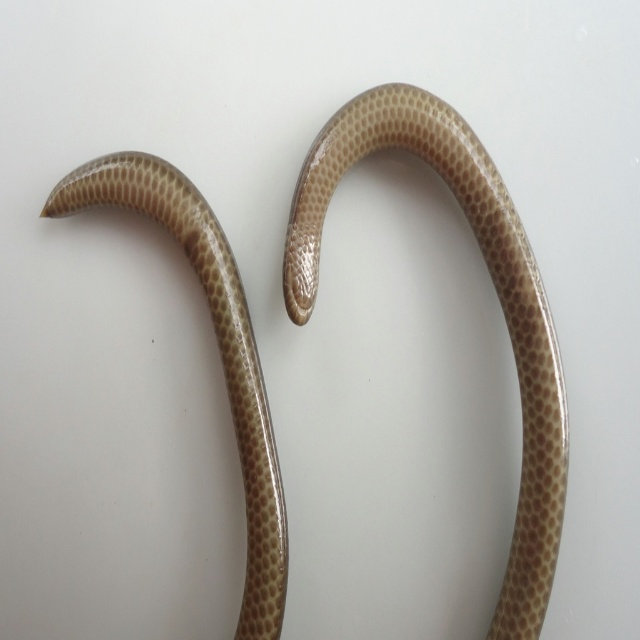Snake: (39, 83, 569, 639)
